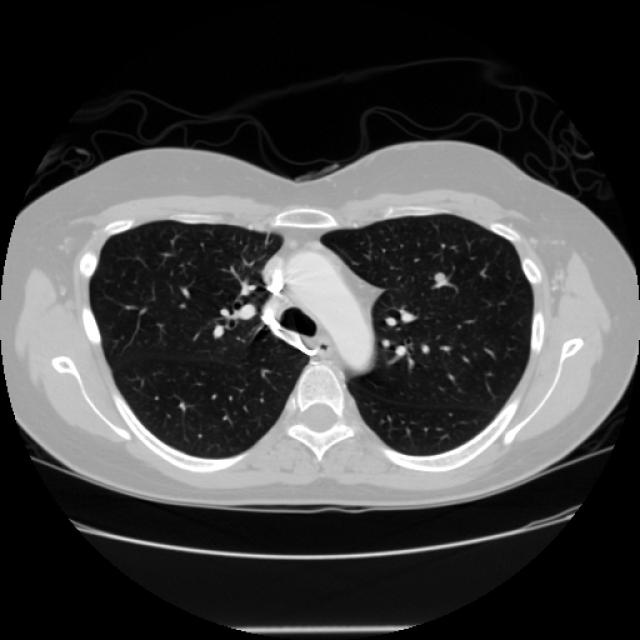nodule: (424, 261, 454, 291)
